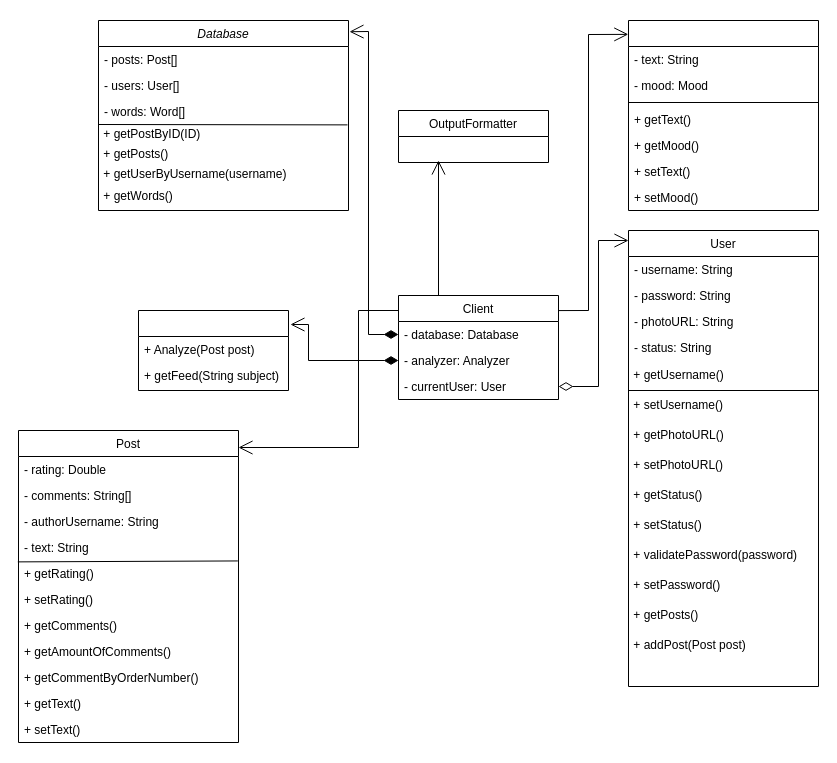
Some shapes in this 837 by 763 pixel diagram are drawn without their labels. Here are the shapes that lost their labels. From the top down, the box of each, then its label:
(628, 20, 818, 210): Word
(138, 310, 288, 390): Analyzer
